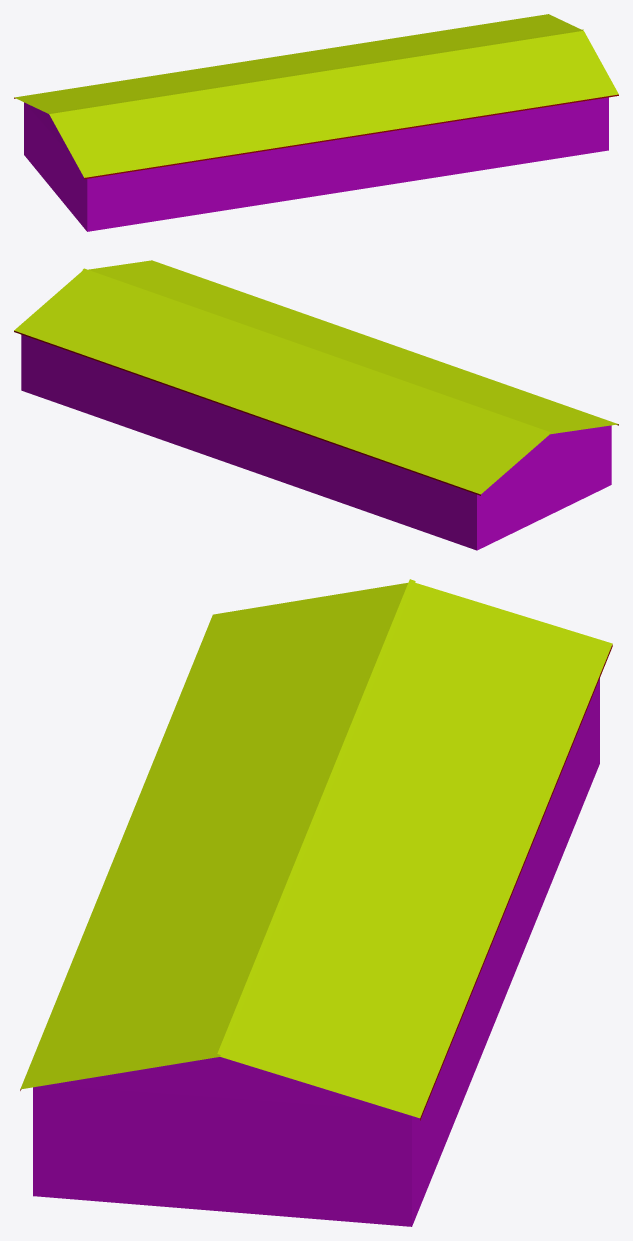
The model's file is niv_49.glb.
3 renders of one model, top to bottom at view 1: azimuth 30°, elevation 25°; view 2: azimuth 150°, elevation 25°; view 3: azimuth 270°, elevation 25°, orthographic. The views are drawn at different scales.
Parts seen in each view (by area): view 1: niv_49; view 2: niv_49; view 3: niv_49.
Boxes of the visible parts, <box> form: niv_49: <box>14,14,618,231</box>; niv_49: <box>14,260,618,550</box>; niv_49: <box>20,579,612,1226</box>.
Size of the model in its own units: 48.22 by 7.28 by 23.96.
